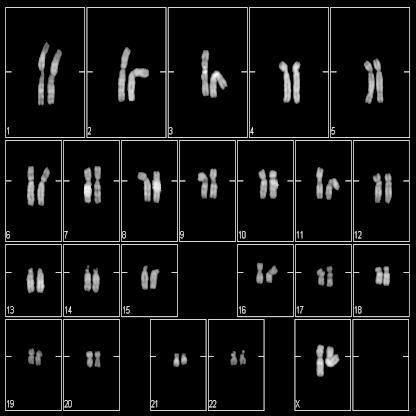1: (48, 42, 61, 110), (37, 40, 49, 108)
10: (258, 170, 268, 198), (269, 170, 278, 198)
11: (326, 176, 340, 203), (316, 165, 324, 200)
12: (370, 172, 382, 204), (384, 172, 393, 204)
13: (26, 268, 36, 292), (35, 268, 44, 292)
14: (82, 266, 92, 292), (90, 266, 100, 292)
15: (150, 266, 160, 292), (141, 263, 148, 290)
16: (266, 264, 278, 283), (254, 262, 264, 284)
17: (325, 264, 336, 286), (316, 266, 326, 286)
18: (383, 264, 391, 286), (375, 265, 382, 285)
19: (26, 346, 35, 366), (36, 349, 45, 368)
2: (126, 63, 150, 107), (116, 40, 130, 102)
20: (84, 352, 96, 366), (94, 350, 103, 366)
21: (172, 352, 180, 368), (182, 352, 187, 366)
22: (229, 349, 238, 367), (238, 349, 246, 367)
3: (200, 47, 210, 98), (210, 70, 228, 98)
4: (277, 59, 292, 103), (291, 58, 303, 102)
5: (364, 58, 373, 106), (374, 57, 383, 104)
6: (37, 164, 50, 206), (25, 164, 35, 206)
7: (83, 166, 91, 204), (92, 166, 100, 204)
8: (135, 171, 151, 202), (151, 169, 162, 204)
9: (208, 168, 218, 198), (198, 169, 207, 200)
X: (325, 344, 340, 368), (316, 342, 323, 375)
